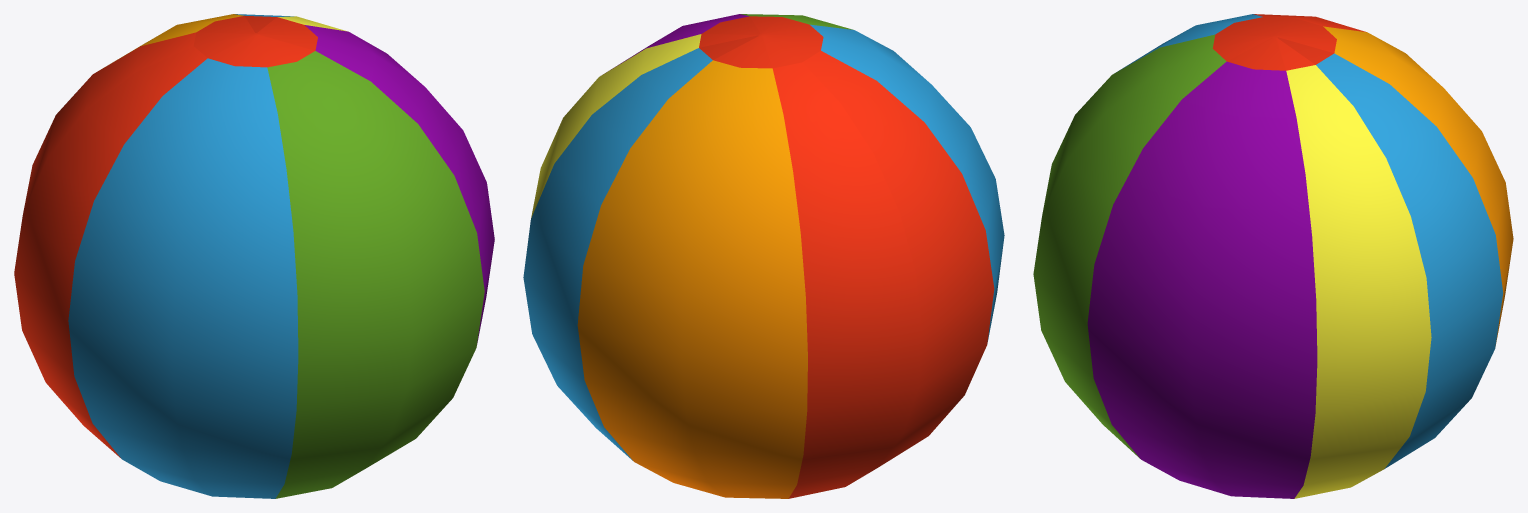
Rendered from ball01.fbx.
The picture shows the model from 3 angles, left to right: view 1: azimuth 30°, elevation 25°; view 2: azimuth 150°, elevation 25°; view 3: azimuth 270°, elevation 25°; orthographic projection.
Visible parts, largest first — view 1: PP_Beach_Ball_01_PP_Standard_Material_0; view 2: PP_Beach_Ball_01_PP_Standard_Material_0; view 3: PP_Beach_Ball_01_PP_Standard_Material_0.
Boxes of the visible parts, x1,y1,x2,y2 form: PP_Beach_Ball_01_PP_Standard_Material_0: (14, 14, 494, 498); PP_Beach_Ball_01_PP_Standard_Material_0: (523, 14, 1004, 498); PP_Beach_Ball_01_PP_Standard_Material_0: (1033, 14, 1513, 498).
Bounding box in the file's own units: 230 × 234 × 230.
Materials: 1 (1 with a texture image).
